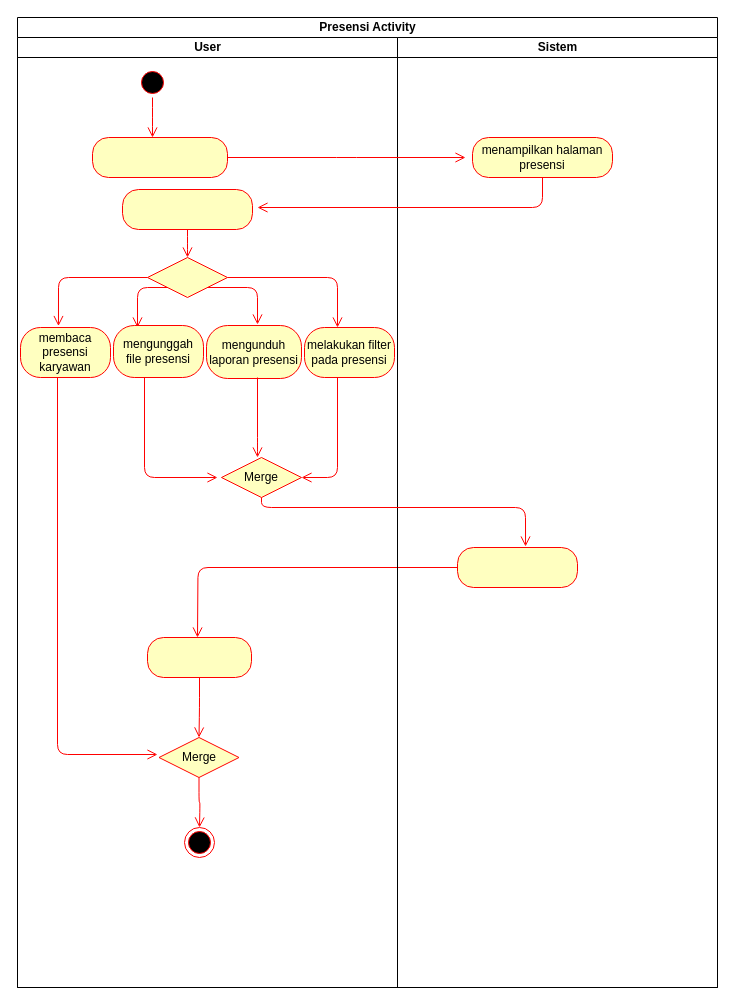
The diagram is 735 pixels wide and 1005 high, and some of its shapes have lost their labels. Each missing label, with the centre of its shape:
Condition: the point at 187,277
masuk pada halaman presensi: the point at 187,209
melihat hasil perubahan: the point at 199,657
memilih fitur presensi di dashboard: the point at 160,157
mengirim perubahan: the point at 517,567
